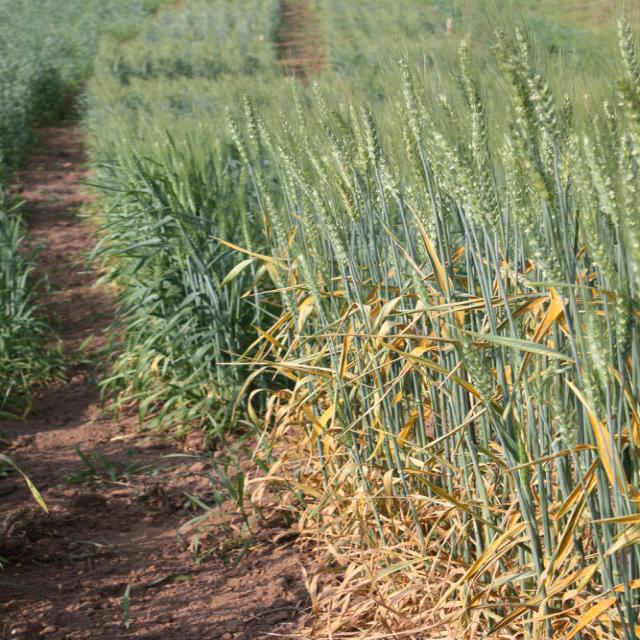wheat-yellowrust: (243, 395, 640, 640), (567, 377, 640, 496), (512, 296, 565, 393)
